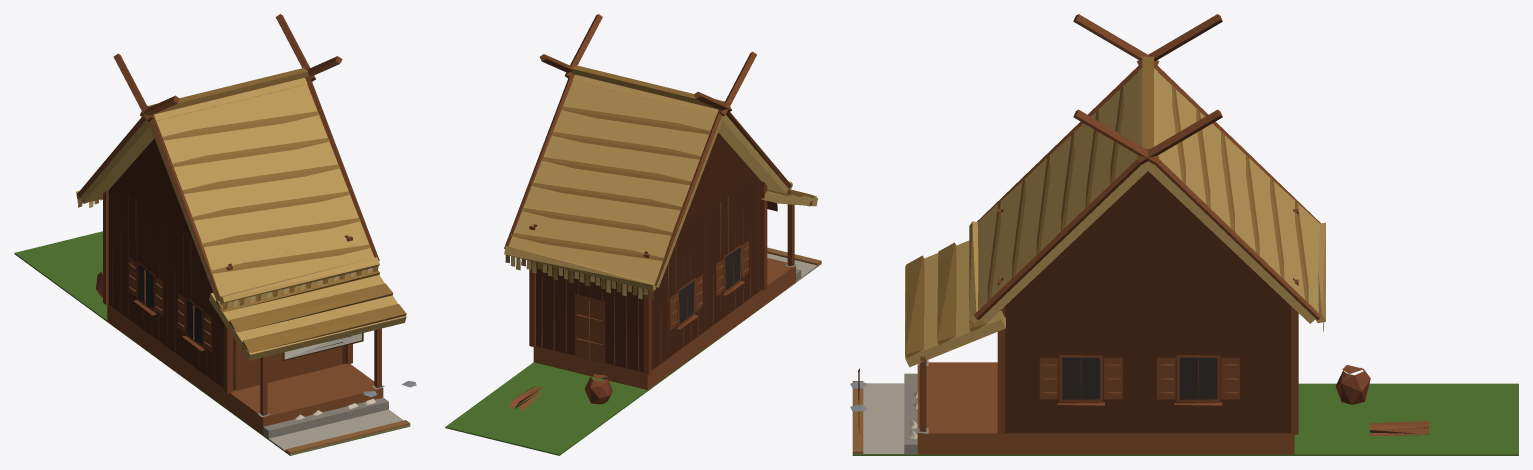
Rendered from bay2_one.glb.
3 views of the same model, side by side, from view 1: azimuth 30°, elevation 25°; view 2: azimuth 150°, elevation 25°; view 3: azimuth 270°, elevation 25° (orthographic). The views are drawn at different scales.
Parts seen in each view (by area): view 1: body, windows; view 2: body, windows; view 3: body, windows.
Part boxes in pixels (box(x1,y1,x2,y2)): body: box(14, 14, 416, 455); windows: box(138, 264, 202, 344); body: box(445, 14, 821, 455); windows: box(679, 247, 740, 323); body: box(850, 14, 1518, 455); windows: box(1062, 357, 1217, 399).
Bounding box in the file's own units: 5.64 × 9.46 × 15.96.
